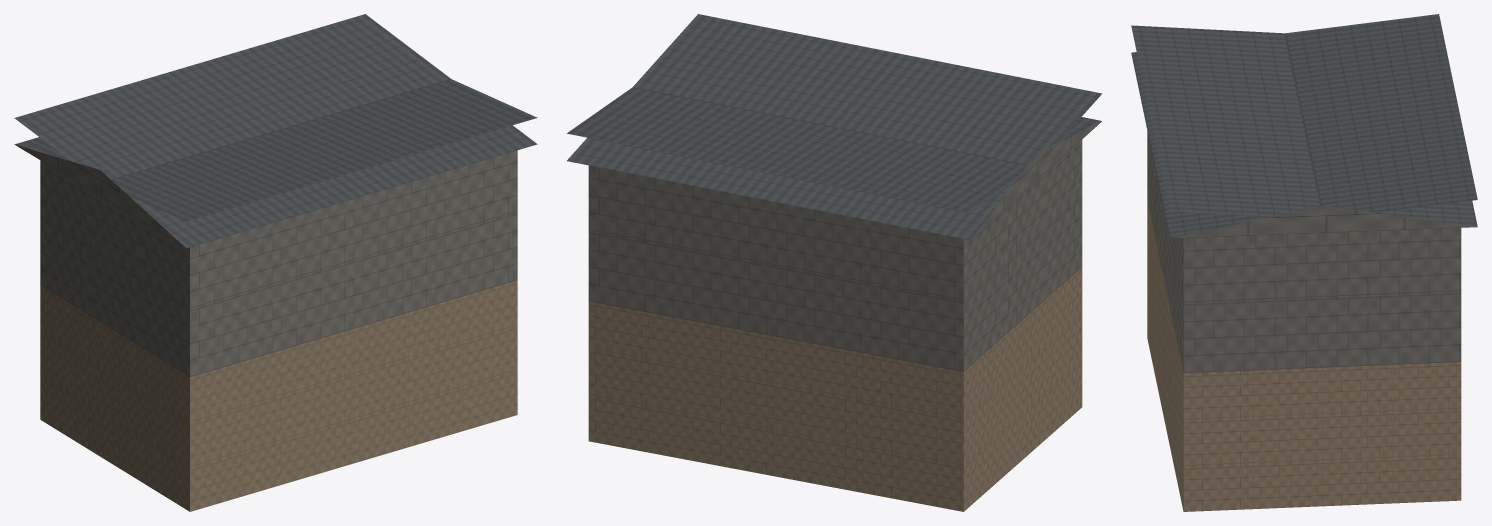
Rendered from bld_c20_32_364.gltf.
The picture shows the model from 3 angles, left to right: view 1: azimuth 30°, elevation 25°; view 2: azimuth 150°, elevation 25°; view 3: azimuth 270°, elevation 25°; orthographic projection. The views are drawn at different scales.
Parts seen in each view (by area): view 1: bld_c20_32_364; view 2: bld_c20_32_364; view 3: bld_c20_32_364.
Part boxes in pixels (x1,y1,x2,y2): bld_c20_32_364: (14, 14, 537, 511); bld_c20_32_364: (567, 14, 1102, 511); bld_c20_32_364: (1131, 14, 1477, 511).
Bounding box in the file's own units: 15.56 × 11.3 × 11.55.
4 materials, 4 textured.
